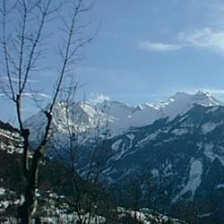neutral: (3, 4, 220, 224)
